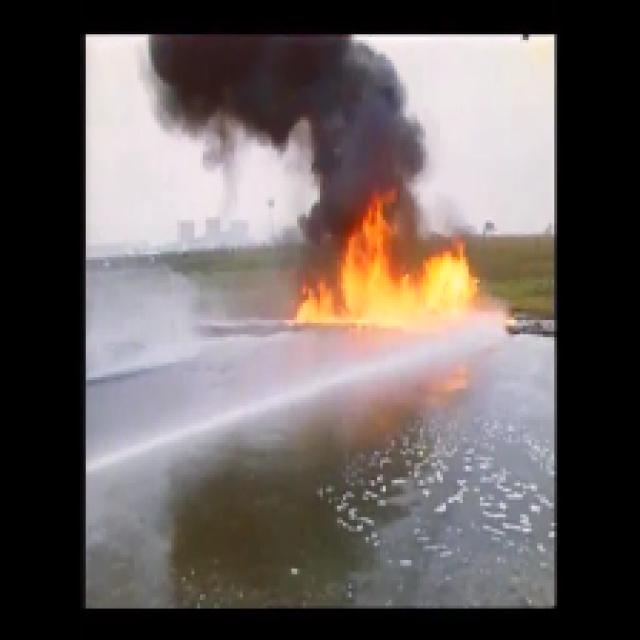fire: (311, 235, 480, 325)
smoke: (192, 37, 348, 114), (323, 126, 415, 188)
